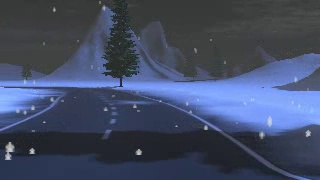Lane: (0, 86, 312, 179)
